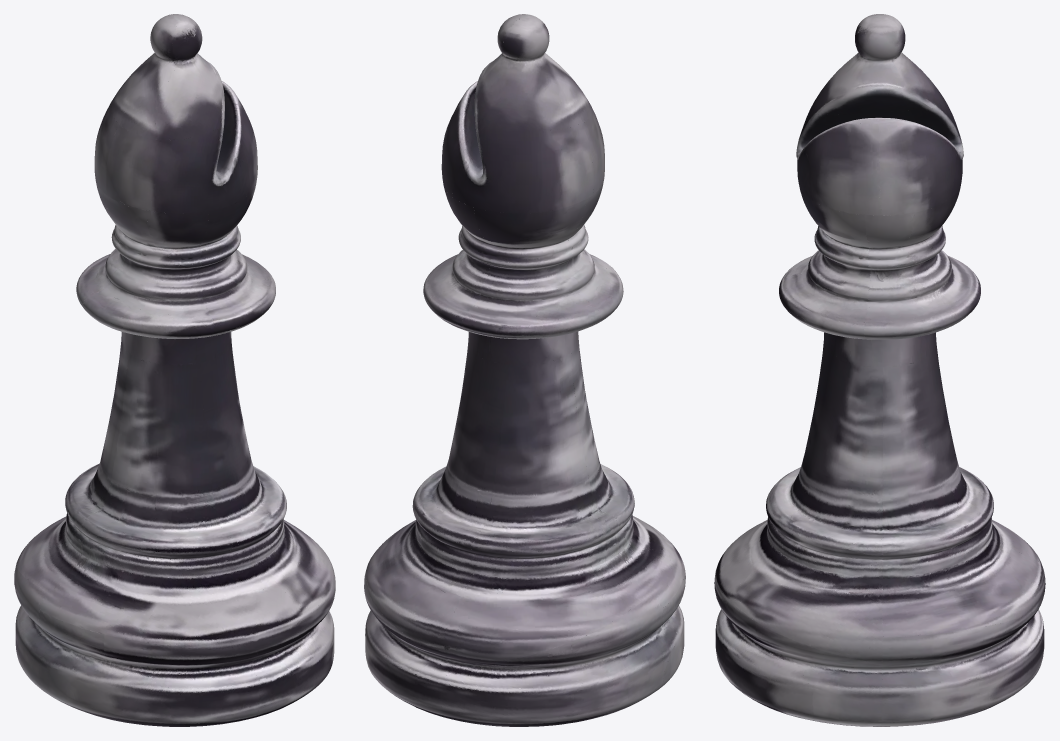
Rendered from bishop.glb.
3 views of the same model, side by side, from view 1: azimuth 30°, elevation 25°; view 2: azimuth 150°, elevation 25°; view 3: azimuth 270°, elevation 25° (orthographic).
Visible parts, largest first — view 1: bishop; view 2: bishop; view 3: bishop.
Boxes of the visible parts, <box> form: bishop: <box>14,14,335,726</box>; bishop: <box>364,14,685,726</box>; bishop: <box>714,14,1045,726</box>.
Size of the model in its own units: 0.2444 by 0.5534 by 0.2546.
Materials: 1 (1 with a texture image).
